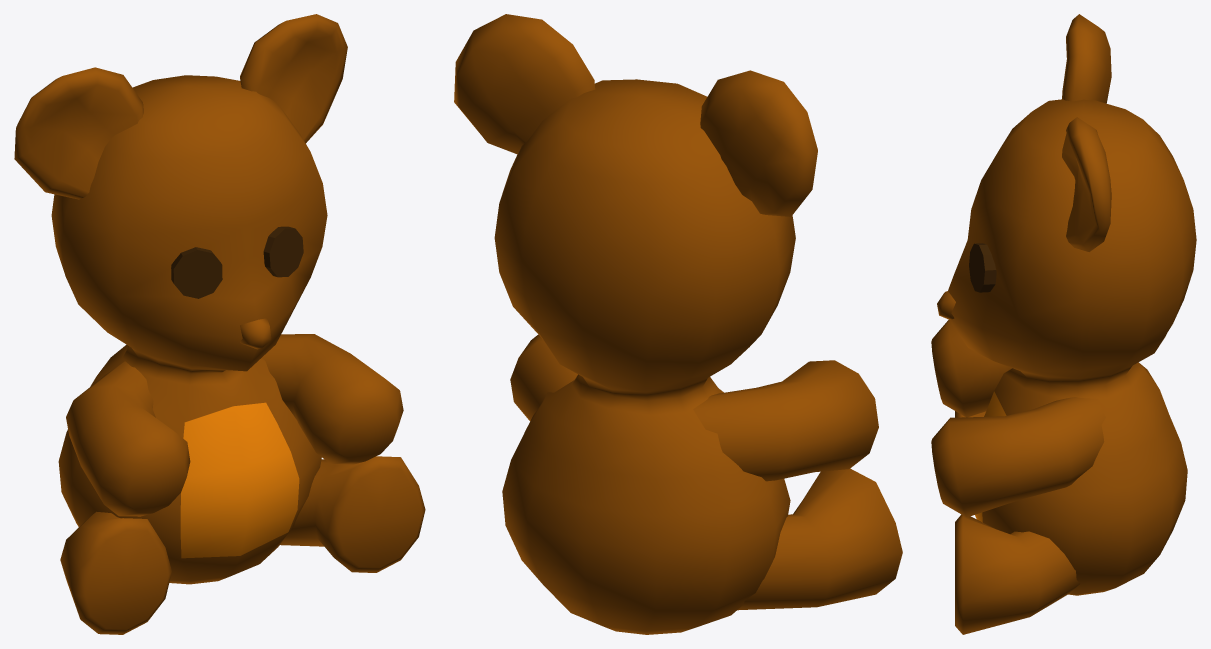
Rendered from scene_f11PDhexsI.glb.
3 renders of one model, left to right at view 1: azimuth 30°, elevation 25°; view 2: azimuth 150°, elevation 25°; view 3: azimuth 270°, elevation 25°, orthographic. The views are drawn at different scales.
Visible parts, largest first — view 1: Collectable_Teddy_Bear_01; view 2: Collectable_Teddy_Bear_01; view 3: Collectable_Teddy_Bear_01.
Part boxes in pixels (x1,y1,x2,y2): Collectable_Teddy_Bear_01: (14,14,425,634); Collectable_Teddy_Bear_01: (454,14,902,634); Collectable_Teddy_Bear_01: (931,14,1196,634).
Size of the model in its own units: 0.4953 by 0.6951 by 0.3355.
1 material, 1 textured.
